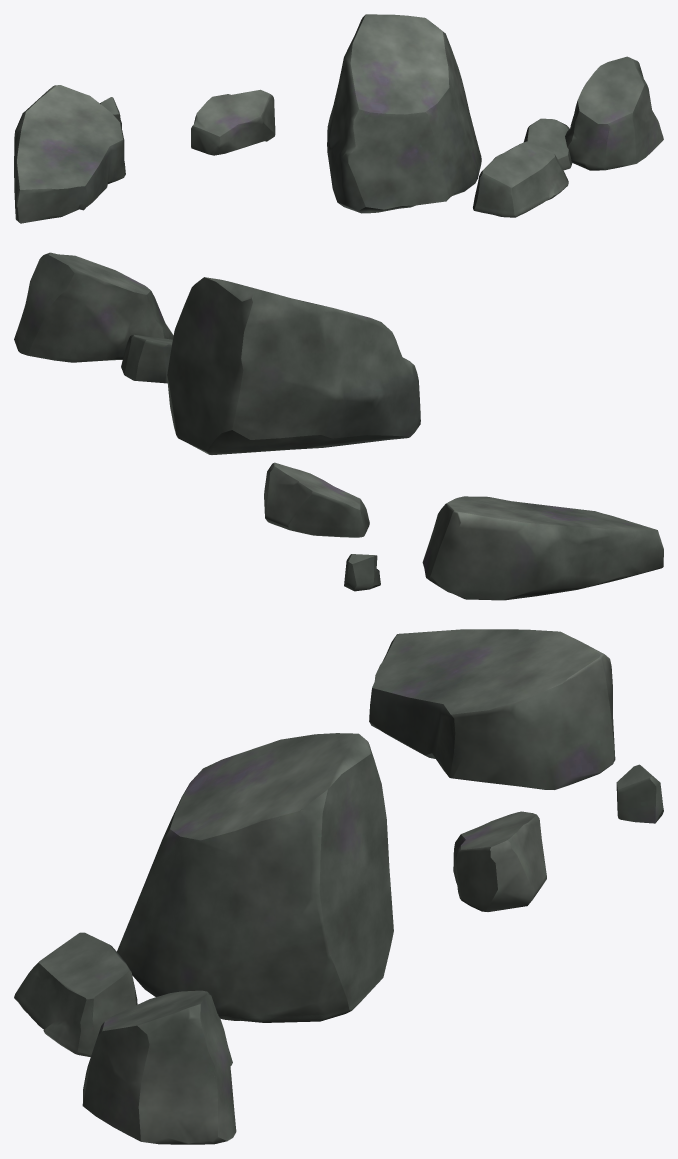
The model's file is caos_drs_rubble_02a_v35.glb.
3 views of the same model, one above another, from view 1: azimuth 30°, elevation 25°; view 2: azimuth 150°, elevation 25°; view 3: azimuth 270°, elevation 25° (orthographic). The views are drawn at different scales.
Visible parts, largest first — view 1: caos_drs_rubble_02a; view 2: caos_drs_rubble_02a; view 3: caos_drs_rubble_02a.
Part boxes in pixels (left/top/right/bottom): caos_drs_rubble_02a: left=14, top=14, right=663, bottom=223; caos_drs_rubble_02a: left=14, top=252, right=663, bottom=600; caos_drs_rubble_02a: left=14, top=629, right=663, bottom=1144.
Bounding box in the file's own units: 4.22 × 0.9698 × 2.49.
Materials: 1 (1 with a texture image).
